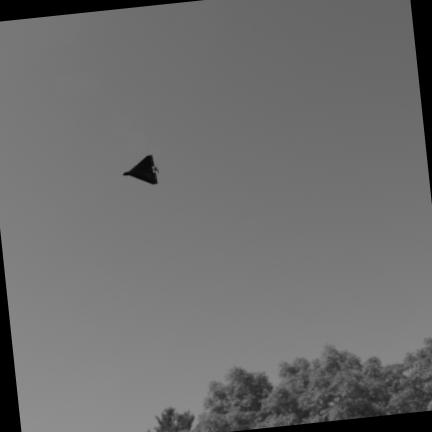Shahed: (123, 155, 157, 184)
